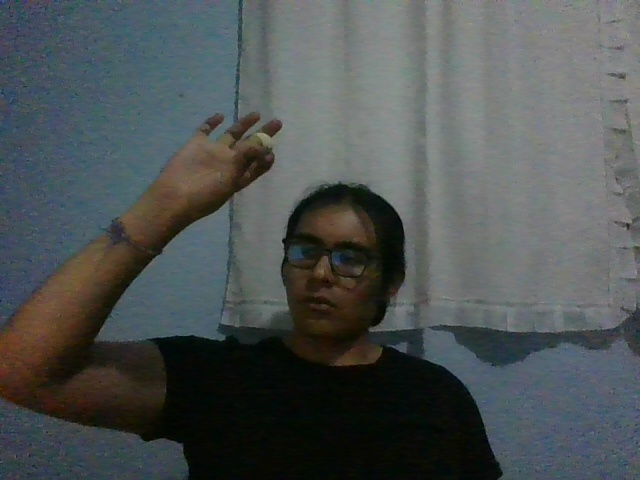goma: (250, 133, 273, 152)
